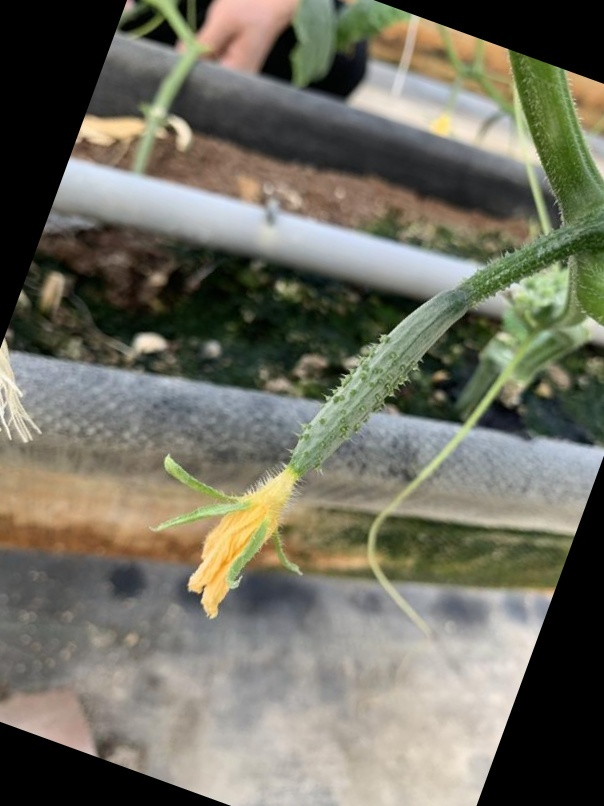bear: (158, 287, 467, 623)
